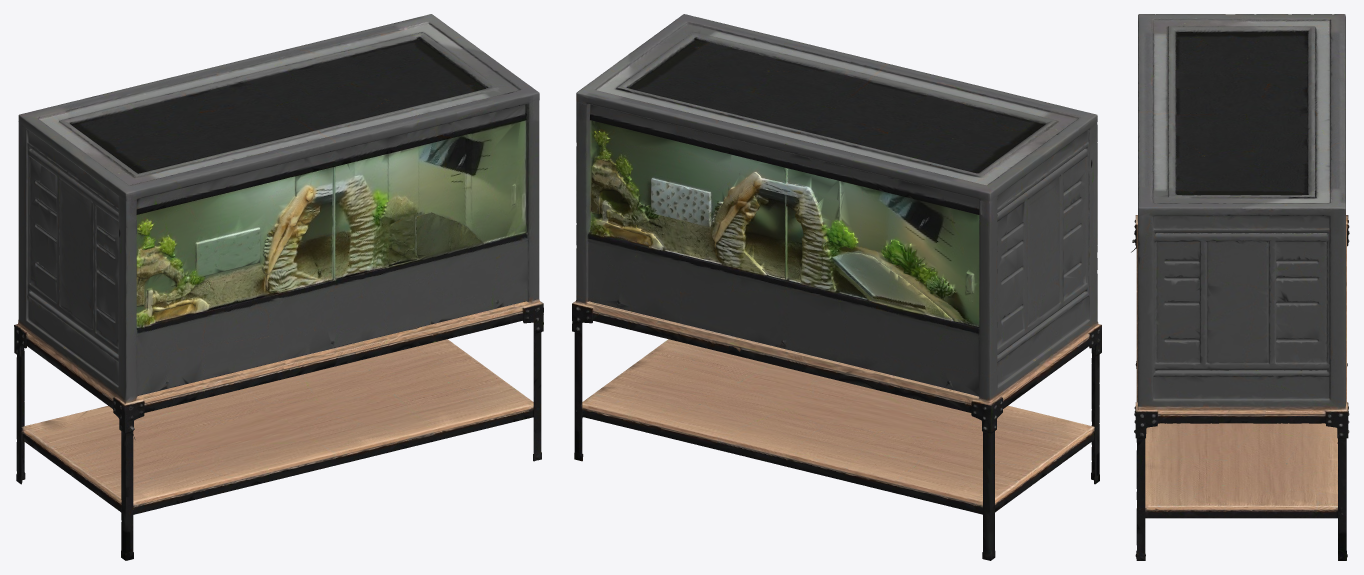
The model's file is stash.glb.
The picture shows the model from 3 angles, left to right: view 1: azimuth 30°, elevation 25°; view 2: azimuth 150°, elevation 25°; view 3: azimuth 270°, elevation 25°; orthographic projection. The views are drawn at different scales.
Size of the model in its own units: 62210 by 51828 by 29179.
Materials: 1 (1 with a texture image).
